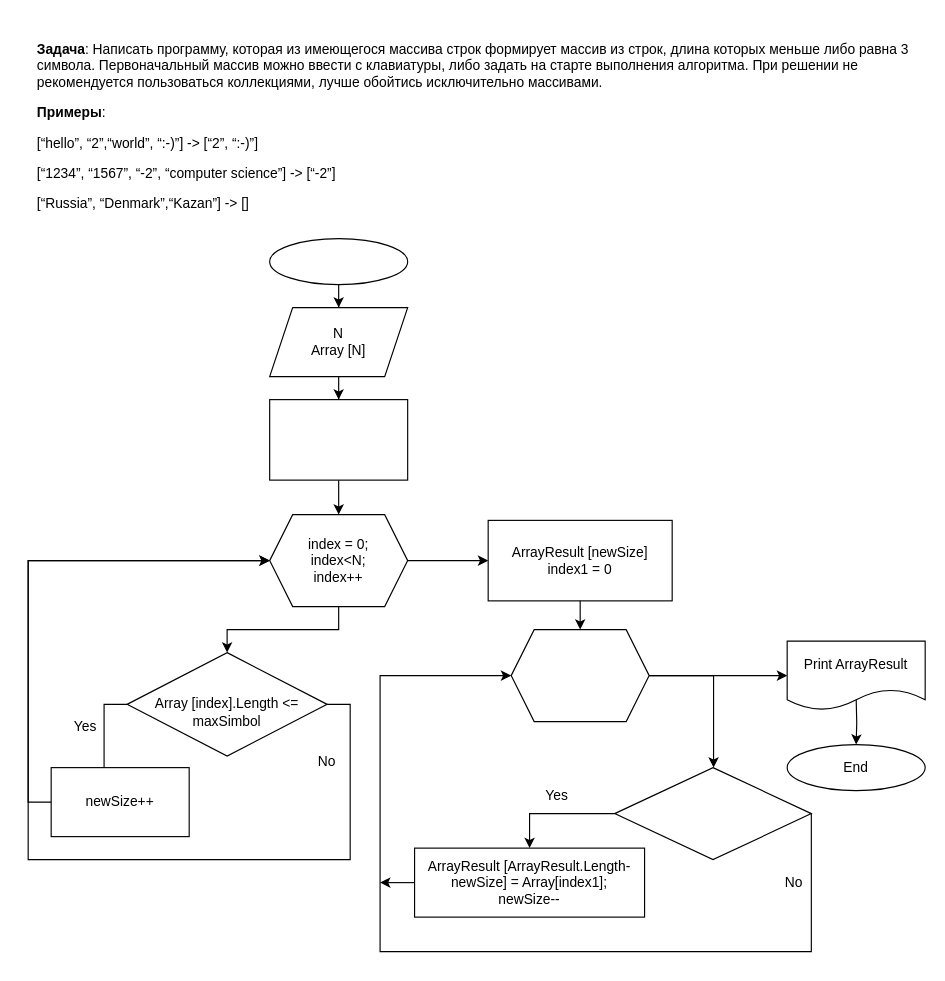
This 945x981 diagram has some shape labels left out. The shapes that lost their labels are listed below. From the top down, each one's centre as x and y in pixels, then its label:
the point at 338,261: start
the point at 338,439: index = 0 newSize = 0 maxSimbol = 3
the point at 579,675: index1 = 0; index1 < N; index1++
the point at 712,813: Array [index1].Length <= maxSimbol
